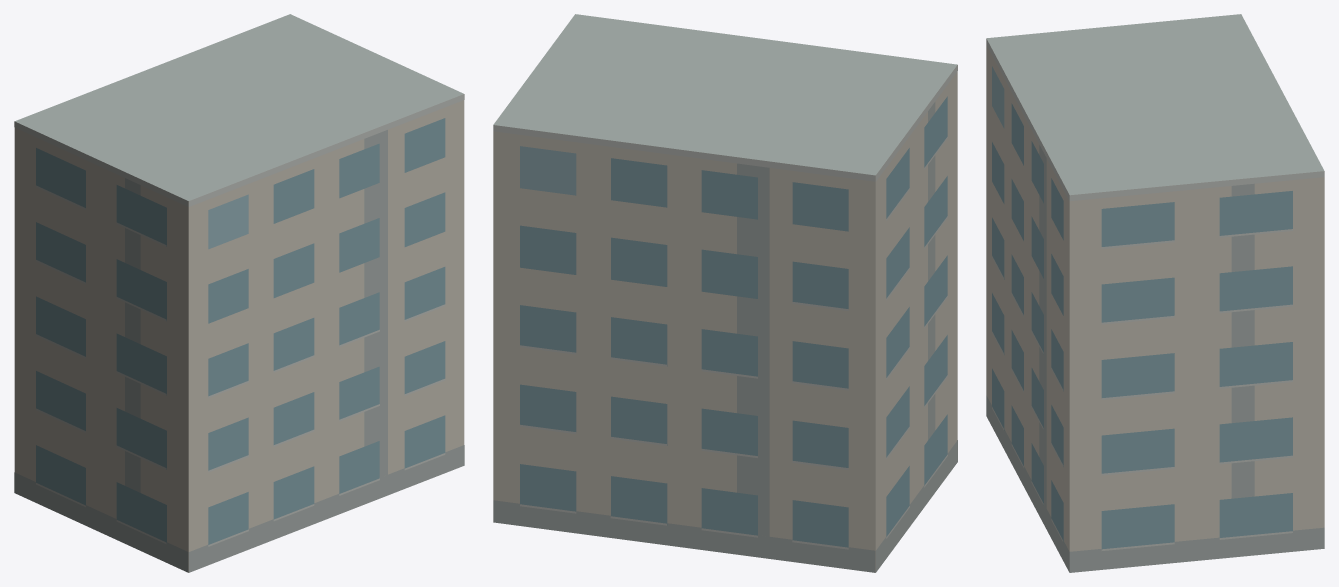
Rendered from residential-30493925-0f73-460a-8d65-f56f12ea8243.glb.
The picture shows the model from 3 angles, left to right: view 1: azimuth 30°, elevation 25°; view 2: azimuth 150°, elevation 25°; view 3: azimuth 270°, elevation 25°; orthographic projection. The views are drawn at different scales.
Parts seen in each view (by area): view 1: residential-30493925-0f73-460a-8d65-f56f12ea8243.tmp; view 2: residential-30493925-0f73-460a-8d65-f56f12ea8243.tmp; view 3: residential-30493925-0f73-460a-8d65-f56f12ea8243.tmp.
Part boxes in pixels (left/top/right/bottom): residential-30493925-0f73-460a-8d65-f56f12ea8243.tmp: left=14, top=14, right=464, bottom=572; residential-30493925-0f73-460a-8d65-f56f12ea8243.tmp: left=493, top=14, right=957, bottom=572; residential-30493925-0f73-460a-8d65-f56f12ea8243.tmp: left=986, top=14, right=1324, bottom=572.
Bounding box in the file's own units: 15.7 × 15.25 × 12.39.
